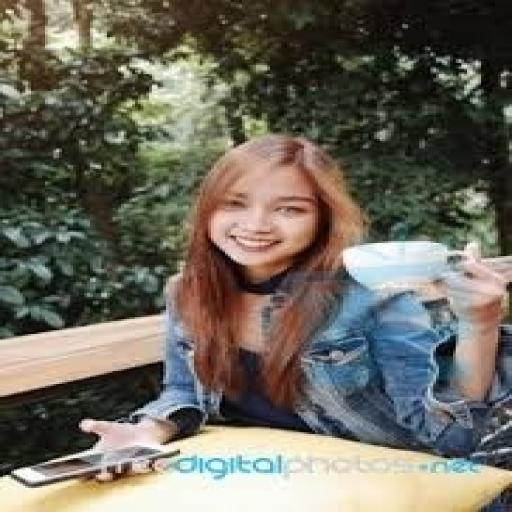texting: (76, 132, 509, 484)
